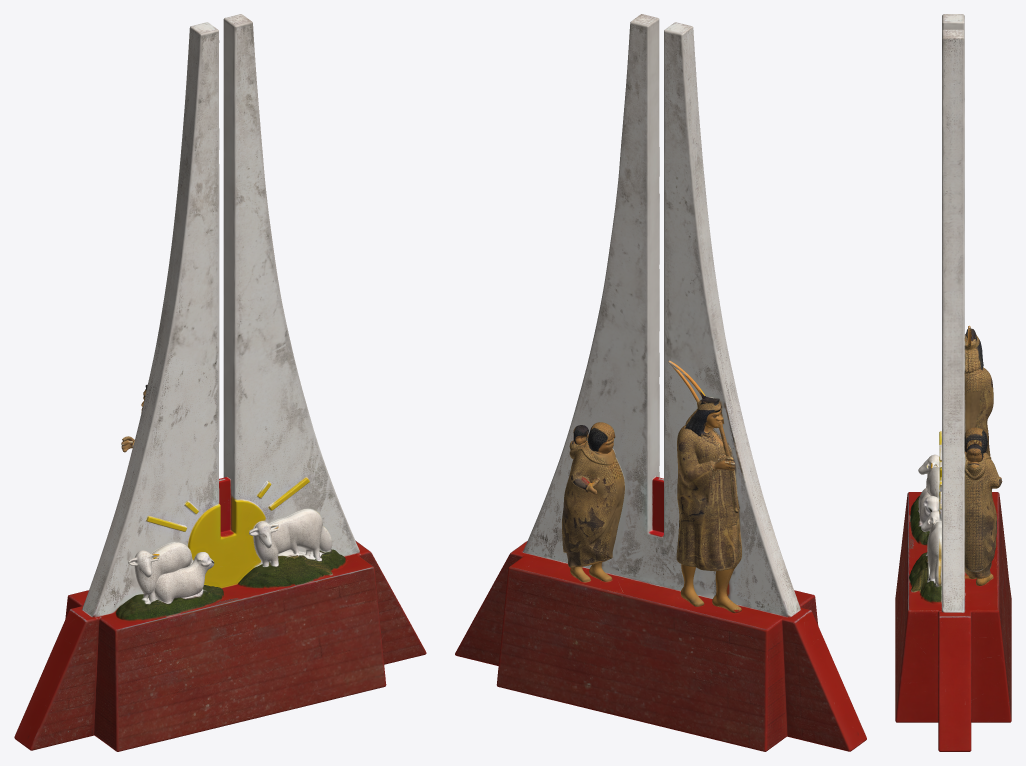
Rendered from monumento_porve_Final.glb.
3 renders of one model, left to right at view 1: azimuth 30°, elevation 25°; view 2: azimuth 150°, elevation 25°; view 3: azimuth 270°, elevation 25°, orthographic. The views are drawn at different scales.
Size of the model in its own units: 1.17 by 1.9 by 0.3151.
1 material, 1 textured.
